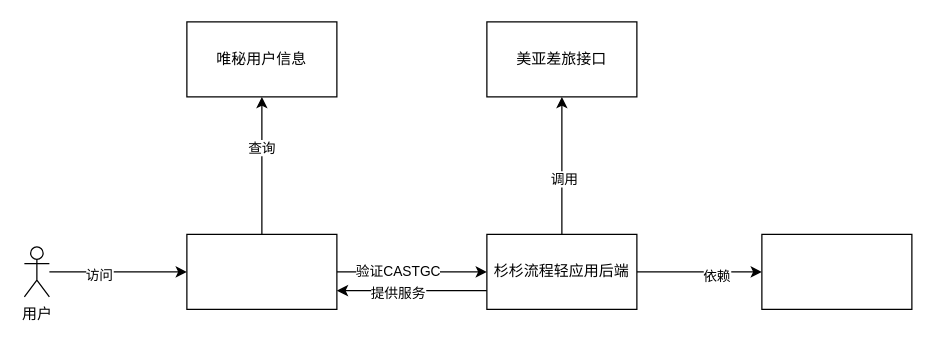
Some shapes in this 934 by 345 pixel diagram are drawn without their labels. The shapes that lost their labels are listed below. From the top down, each one's centre as x and y in pixels, then its label:
At [261,271]: "轻应用前端 出差、航班变更".
At [836,271]: "OA流程统一服务".
